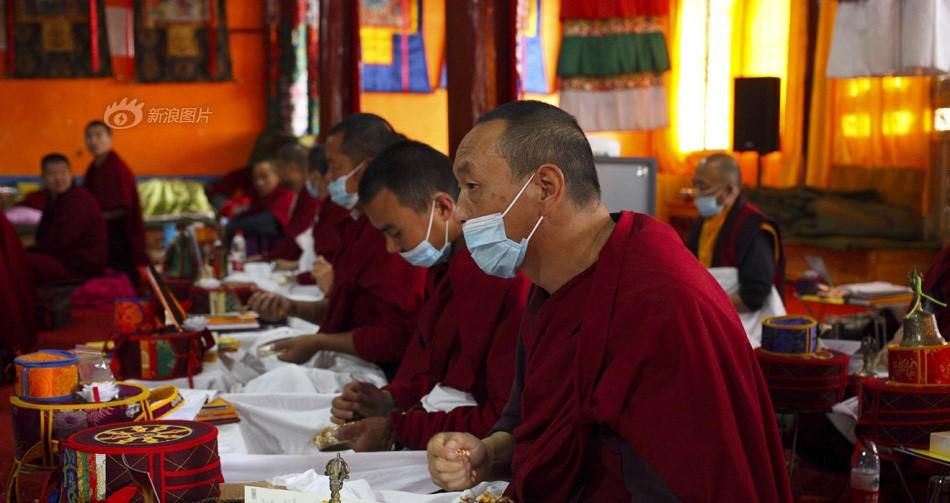NONE: (252, 162, 278, 198), (46, 162, 72, 194), (86, 126, 111, 156)
OK: (694, 173, 728, 217)
WRONG: (454, 157, 527, 274), (374, 202, 450, 271), (324, 149, 355, 210)
